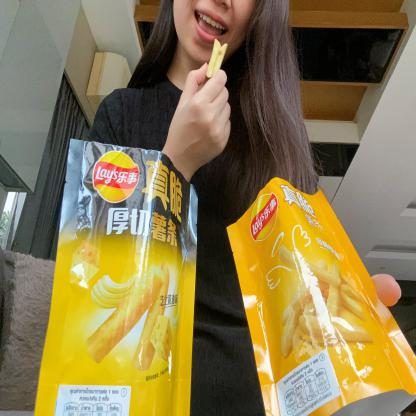potatochip: (31, 135, 201, 415), (223, 181, 415, 415)
